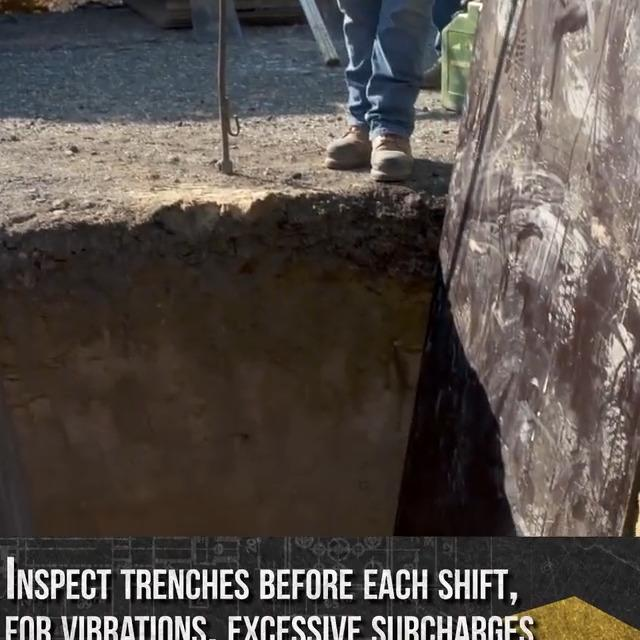Person: (320, 0, 441, 181), (416, 0, 481, 93)
